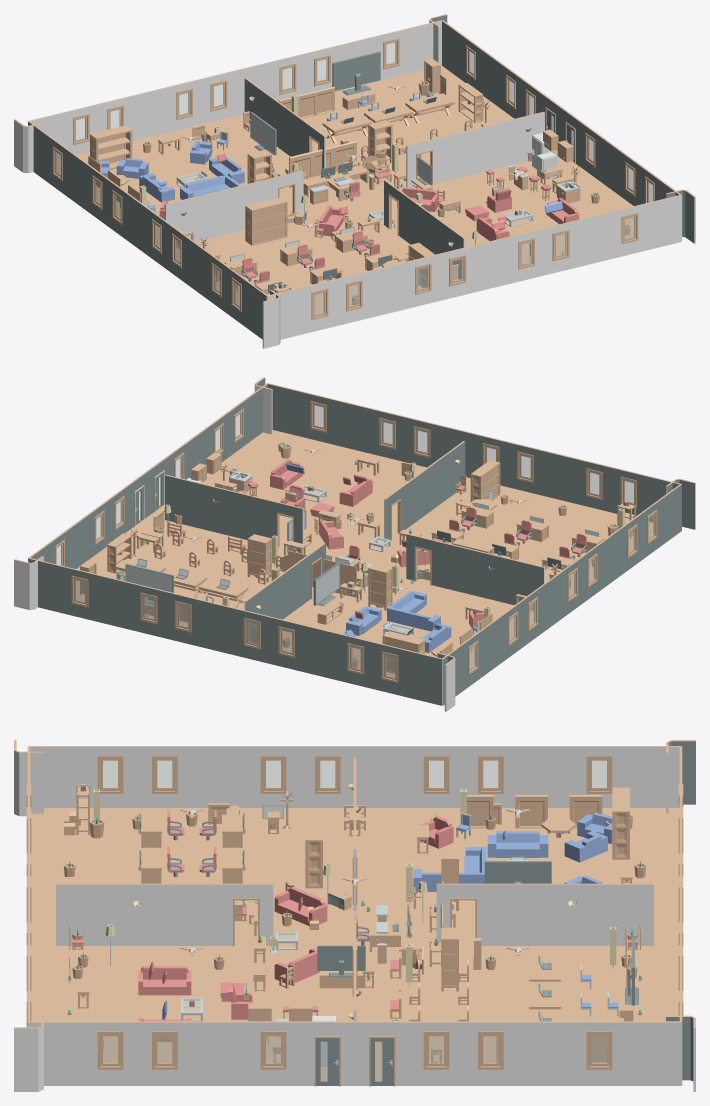
Rendered from office.glb.
The picture shows the model from 3 angles, top to bottom: view 1: azimuth 30°, elevation 25°; view 2: azimuth 150°, elevation 25°; view 3: azimuth 270°, elevation 25°; orthographic projection. The views are drawn at different scales.
Parts seen in each view (by area): view 1: bookcaseClosedWide(Clone), wall(Clone).001, wall(Clone).004, wall(Clone).003, wall(Clone).002, wall(Clone).006, wall(Clone).022, wall(Clone).023, wall(Clone).020, televisionModern(Clone).001, wallWindow(Clone).005, wallWindow(Clone).003 (+77 smaller); view 2: wall(Clone).005, wall(Clone).006, wall(Clone).008, wall(Clone).007, wall(Clone).001, wall(Clone).021, wall(Clone).003, wall(Clone).020, wall(Clone).023, wall(Clone).024, wall(Clone).022, wallWindow(Clone).012 (+84 smaller); view 3: wall(Clone).016, wall(Clone).017, wall(Clone).018, wall(Clone).027, wall(Clone).028, wall(Clone).029, wall(Clone).026, wall(Clone).012, wall(Clone).011, wall(Clone).025, wall(Clone).030, wall(Clone).014 (+138 smaller).
Part boxes in pixels (x1=…): bookcaseClosedWide(Clone): x1=245, y1=197, x2=287, y2=245; wall(Clone).001: x1=371, y1=262, x2=405, y2=317; wall(Clone).004: x1=646, y1=195, x2=681, y2=250; wall(Clone).003: x1=577, y1=211, x2=612, y2=266; wall(Clone).002: x1=474, y1=237, x2=509, y2=292; wall(Clone).006: x1=132, y1=87, x2=167, y2=140; wall(Clone).022: x1=441, y1=128, x2=475, y2=181; wall(Clone).023: x1=475, y1=120, x2=510, y2=173; wall(Clone).020: x1=200, y1=187, x2=234, y2=240; televisionModern(Clone).001: x1=332, y1=51, x2=380, y2=95; wallWindow(Clone).005: x1=543, y1=220, x2=578, y2=275; wallWindow(Clone).003: x1=440, y1=245, x2=474, y2=300; wall(Clone).005: x1=407, y1=650, x2=442, y2=705; wall(Clone).006: x1=304, y1=625, x2=338, y2=680; wall(Clone).008: x1=97, y1=574, x2=132, y2=629; wall(Clone).007: x1=200, y1=600, x2=235, y2=655; wall(Clone).001: x1=542, y1=450, x2=577, y2=503; wall(Clone).021: x1=440, y1=542, x2=475, y2=595; wall(Clone).003: x1=336, y1=400, x2=370, y2=453; wall(Clone).020: x1=475, y1=550, x2=509, y2=603; wall(Clone).023: x1=199, y1=483, x2=234, y2=536; wall(Clone).024: x1=165, y1=474, x2=199, y2=528; wall(Clone).022: x1=234, y1=491, x2=268, y2=539; wallWindow(Clone).012: x1=131, y1=583, x2=166, y2=638; wall(Clone).016: x1=192, y1=1021, x2=246, y2=1085; wall(Clone).017: x1=518, y1=1021, x2=572, y2=1085; wall(Clone).018: x1=626, y1=1021, x2=680, y2=1085; wall(Clone).027: x1=164, y1=883, x2=218, y2=945; wall(Clone).028: x1=491, y1=883, x2=545, y2=945; wall(Clone).029: x1=545, y1=883, x2=599, y2=945; wall(Clone).026: x1=110, y1=883, x2=164, y2=945; wall(Clone).012: x1=355, y1=746, x2=409, y2=807; wall(Clone).011: x1=192, y1=746, x2=246, y2=807; wall(Clone).025: x1=56, y1=883, x2=110, y2=945; wall(Clone).030: x1=599, y1=883, x2=653, y2=945; wall(Clone).014: x1=626, y1=746, x2=680, y2=807.
Bounding box in the file's own units: 25.1 × 2.76 × 25.1.
